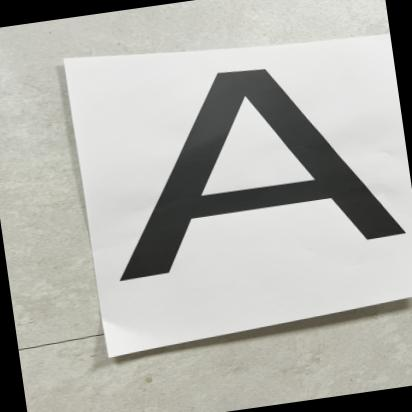seat: (80, 33, 405, 298)
